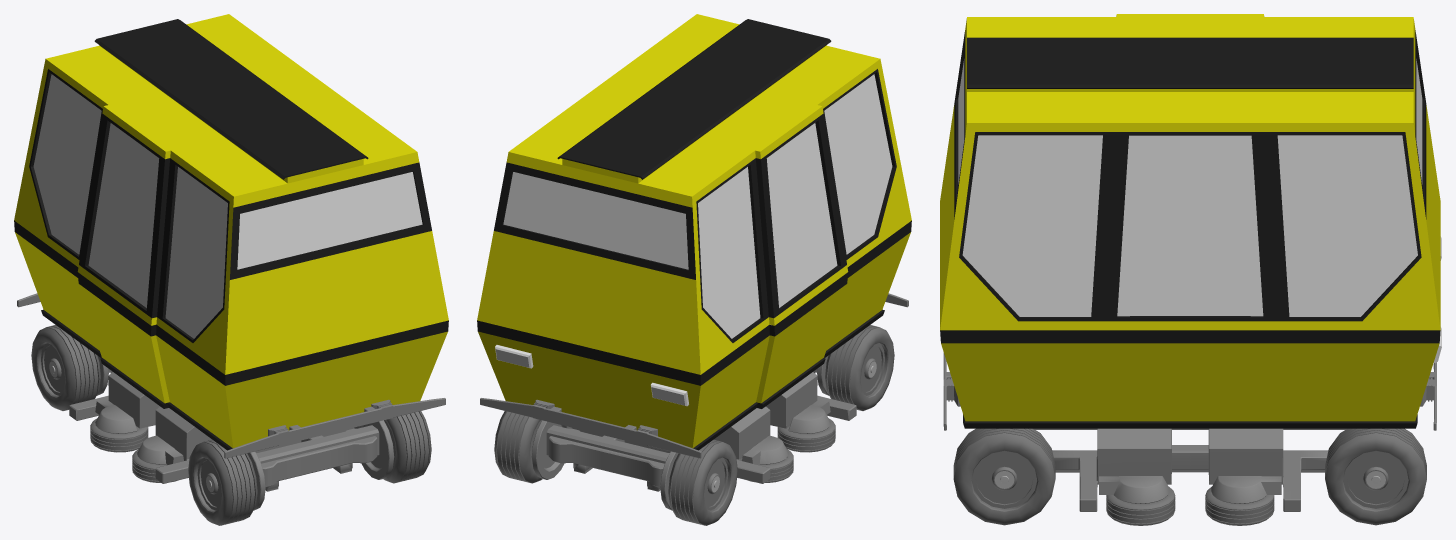
Rendered from Wagon_V1.1.fbx.
The picture shows the model from 3 angles, left to right: view 1: azimuth 30°, elevation 25°; view 2: azimuth 150°, elevation 25°; view 3: azimuth 270°, elevation 25°; orthographic projection. The views are drawn at different scales.
Parts seen in each view (by area): view 1: Wagon, Porte, bottom, right_top, right_bottom, left_top, horizontal_right_bottom, horizontal_right_top; view 2: Wagon, Porte, bottom, right_bottom, right_top, left_bottom, horizontal_right_top, horizontal_right_bottom; view 3: Wagon, bottom, left_top, left_bottom, horizontal_left_bottom, horizontal_left_top.
Part boxes in pixels (bbox=[...]): Wagon: bbox=[14, 14, 448, 450]; Porte: bbox=[77, 105, 170, 408]; bottom: bbox=[17, 293, 445, 510]; right_top: bbox=[188, 439, 257, 525]; right_bottom: bbox=[31, 325, 100, 410]; left_top: bbox=[383, 411, 431, 483]; horizontal_right_bottom: bbox=[90, 418, 148, 452]; horizontal_right_top: bbox=[132, 449, 175, 482]; Wagon: bbox=[477, 14, 911, 450]; Porte: bbox=[755, 105, 848, 408]; bottom: bbox=[480, 293, 908, 510]; right_bottom: bbox=[668, 439, 737, 525]; right_top: bbox=[825, 325, 894, 410]; left_bottom: bbox=[494, 411, 542, 483]; horizontal_right_top: bbox=[777, 418, 835, 452]; horizontal_right_bottom: bbox=[750, 449, 793, 482]; Wagon: bbox=[940, 17, 1441, 428]; bottom: bbox=[943, 353, 1436, 511]; left_top: bbox=[953, 428, 1055, 525]; left_bottom: bbox=[1325, 428, 1426, 525]; horizontal_left_bottom: bbox=[1205, 486, 1274, 525]; horizontal_left_top: bbox=[1106, 486, 1175, 525].
Size of the model in its own units: 229 by 322 by 360.
